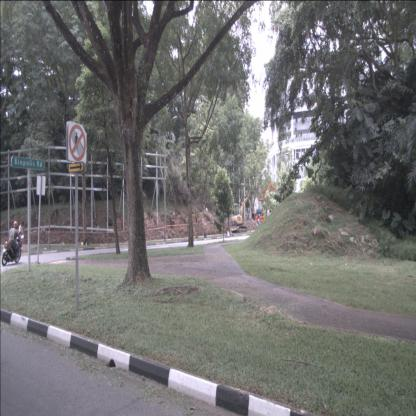vehicle-motorcycle: (2, 221, 24, 267)
